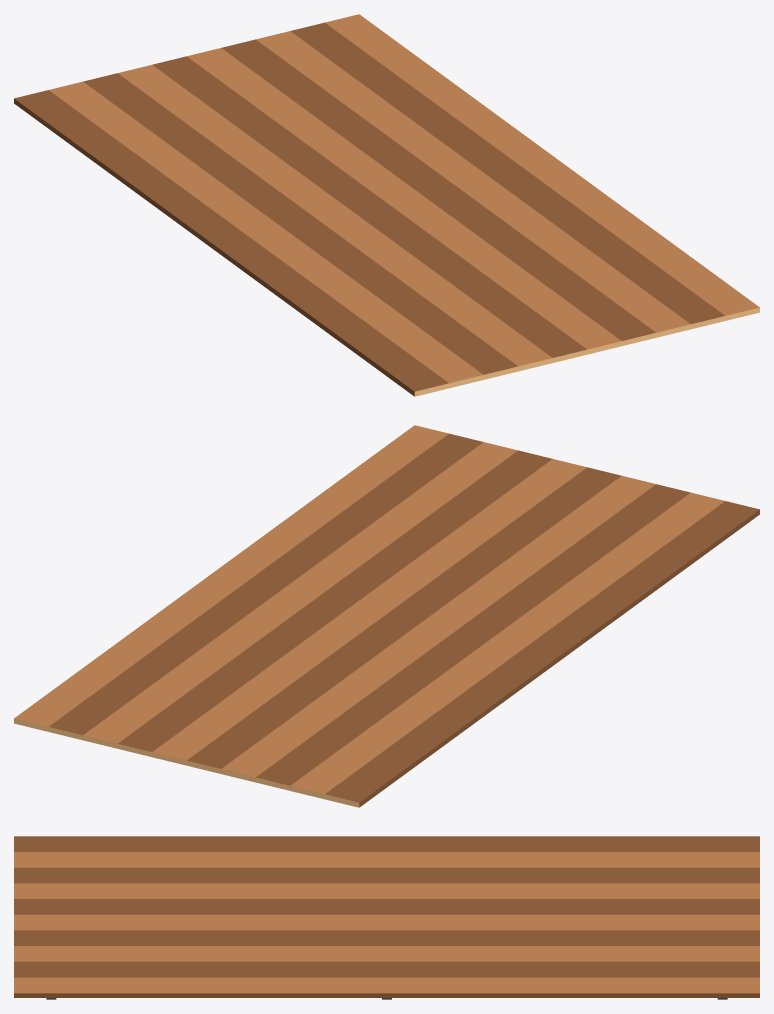
The model's file is plaza-deck.glb.
3 views of the same model, one above another, from view 1: azimuth 30°, elevation 25°; view 2: azimuth 150°, elevation 25°; view 3: azimuth 270°, elevation 25° (orthographic). The views are drawn at different scales.
Visible parts, largest first — view 1: plaza-deck; view 2: plaza-deck; view 3: plaza-deck.
Part boxes in pixels (x1,y1,x2,y2): plaza-deck: [14, 14, 759, 396]; plaza-deck: [14, 425, 759, 807]; plaza-deck: [14, 836, 759, 999].
Bounding box in the file's own units: 19.9 × 0.7 × 40.
